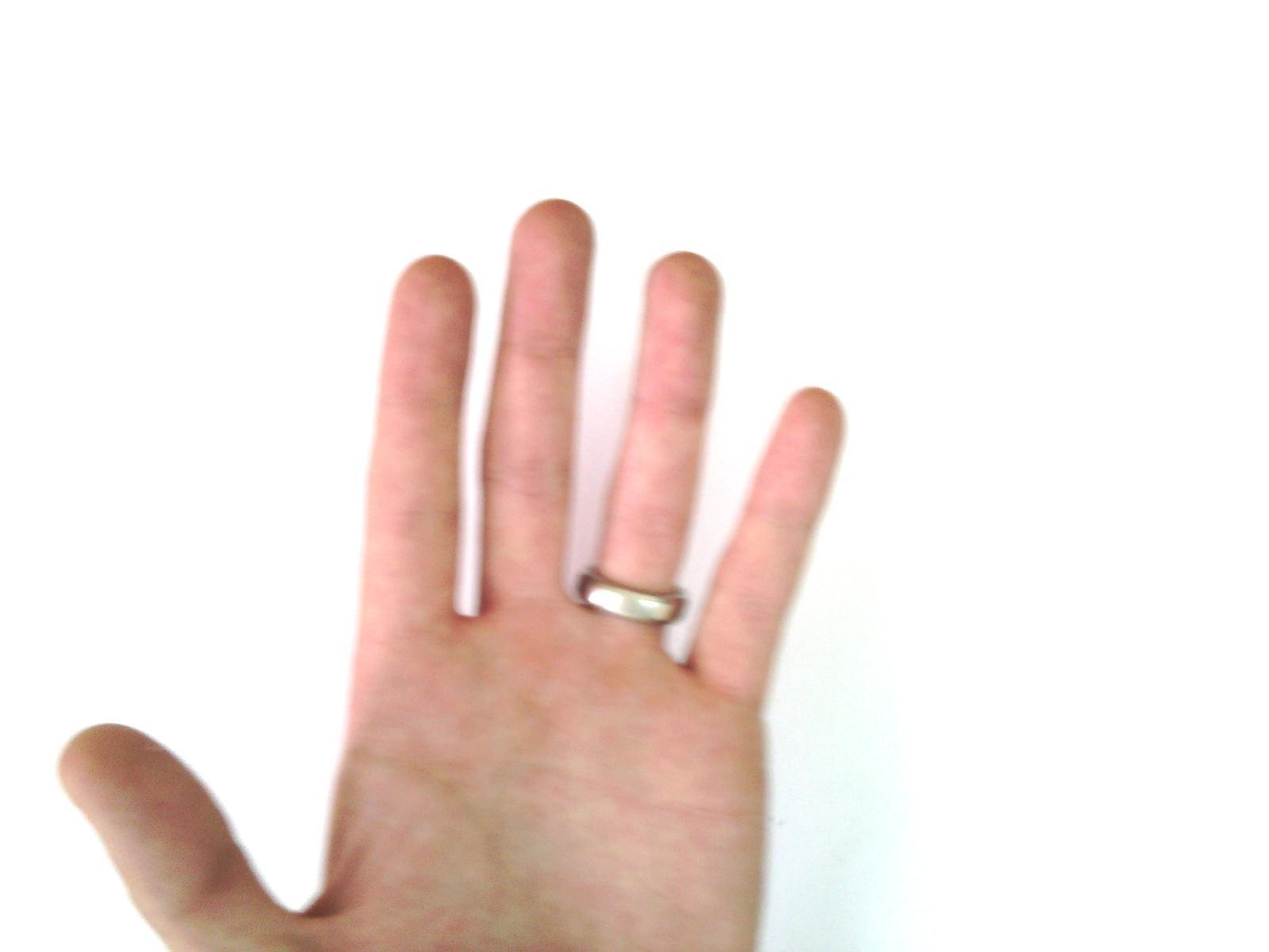open_palm: (56, 197, 851, 951)
